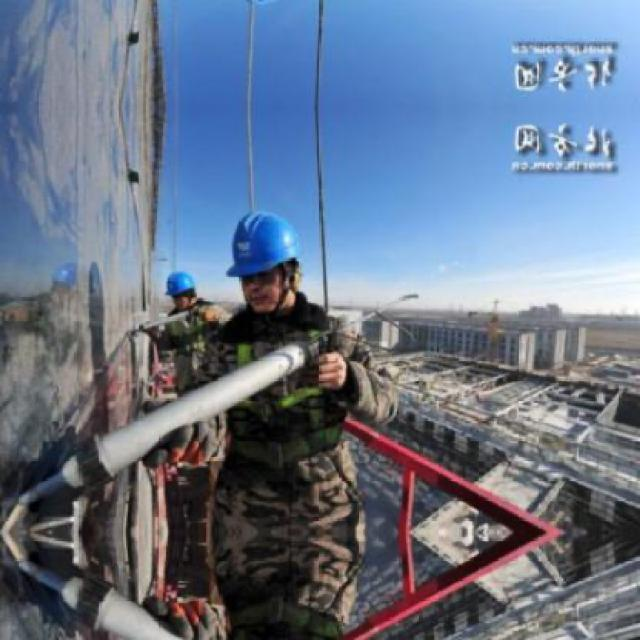con casco: (234, 200, 312, 348), (160, 262, 214, 319)
